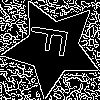F: (27, 22, 78, 60)
